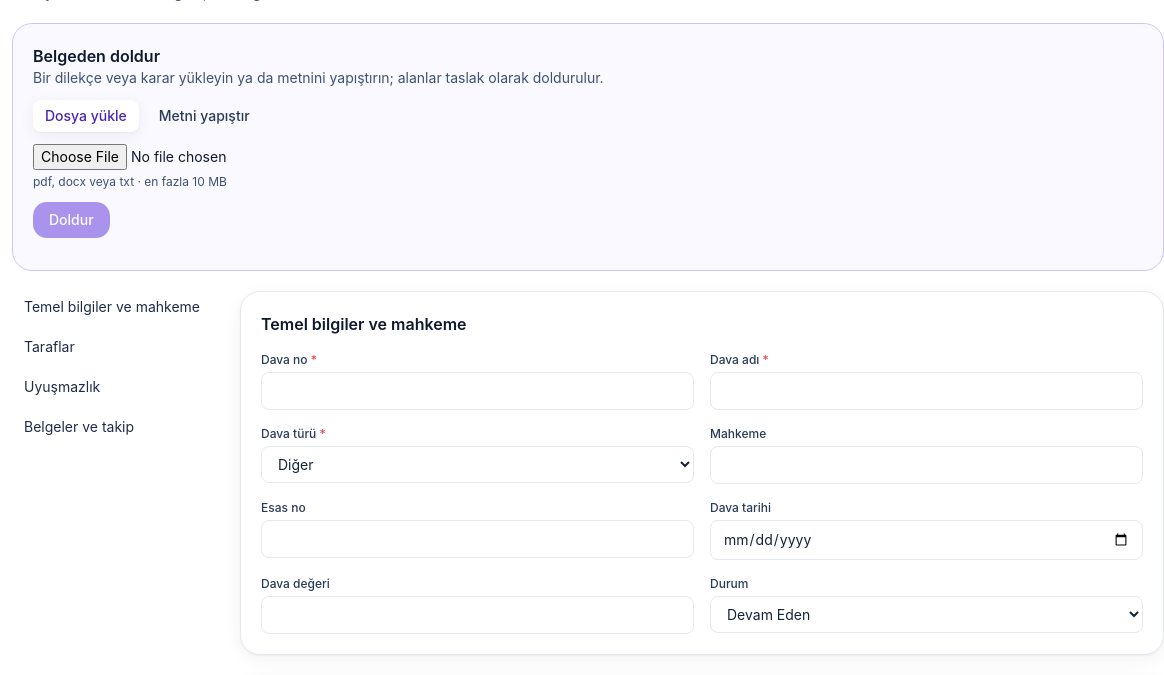
Test: NewCaseView › fills the sections from the draft, badges them and leaves the client unmarked
This screenshot has width=1164, height=675.
Click the tab "Metni yapıştır". click: click(204, 116)
box: [147,100,262,132]
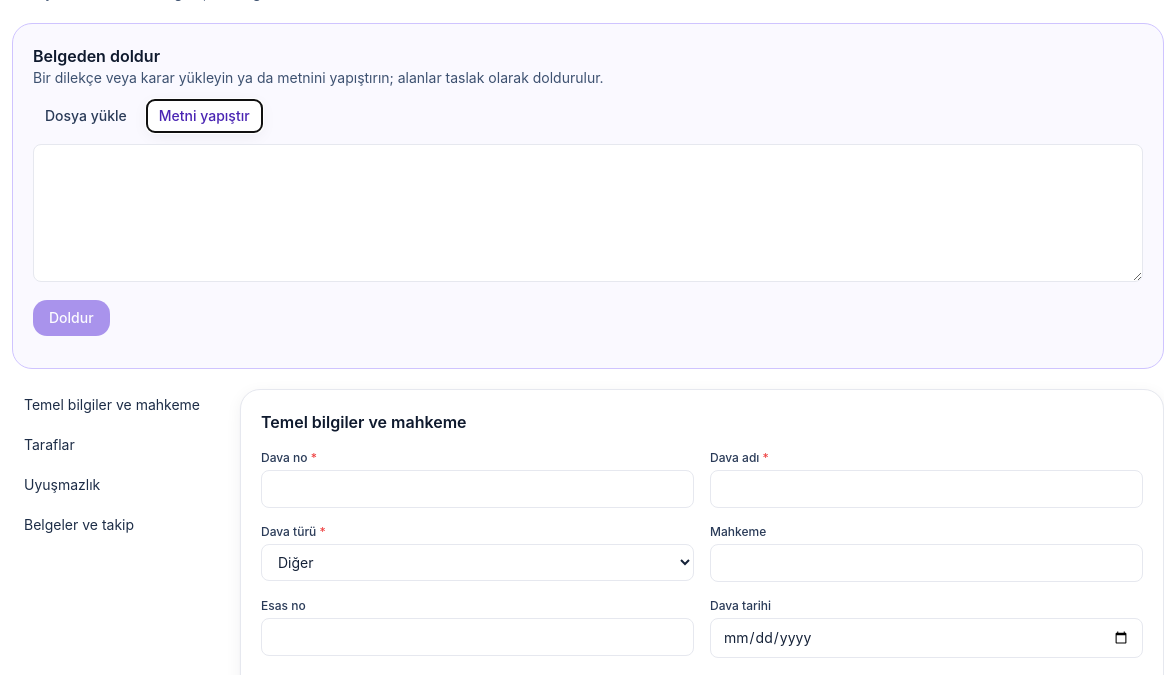
Type "dilekçe metni" into the text box named "Belge metni". click: (588, 213)
box: [33,144,1143,282]
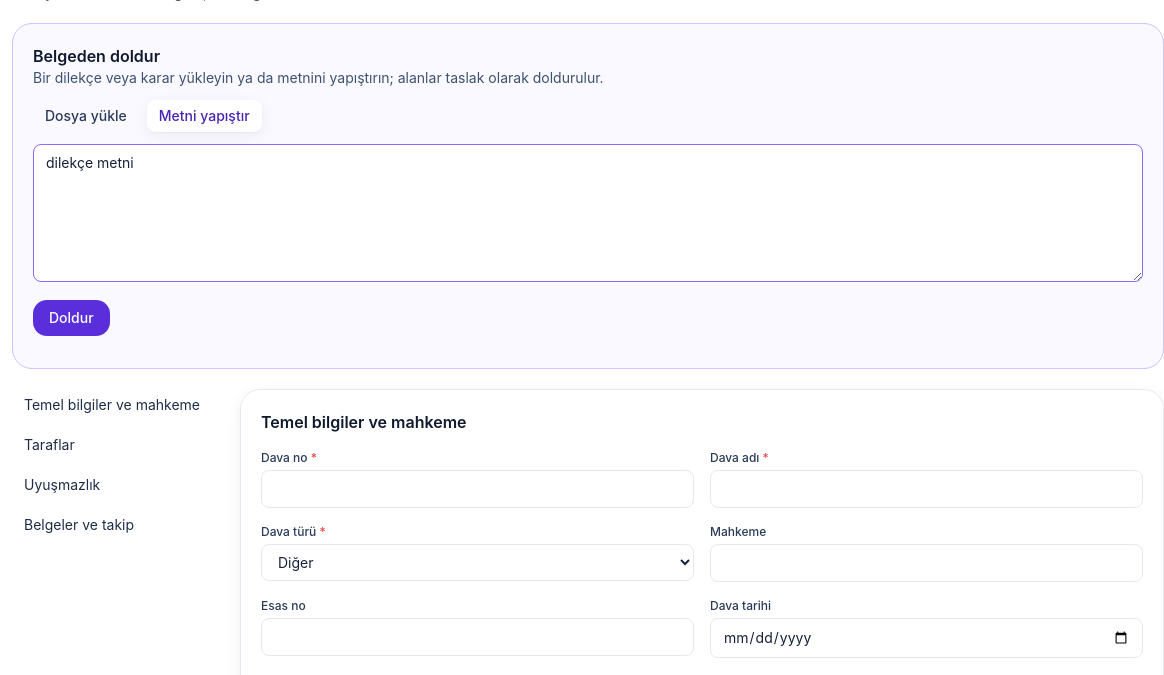
Click the button "Doldur". click: click(71, 318)
box: [33,300,110,336]
(page scrolled)
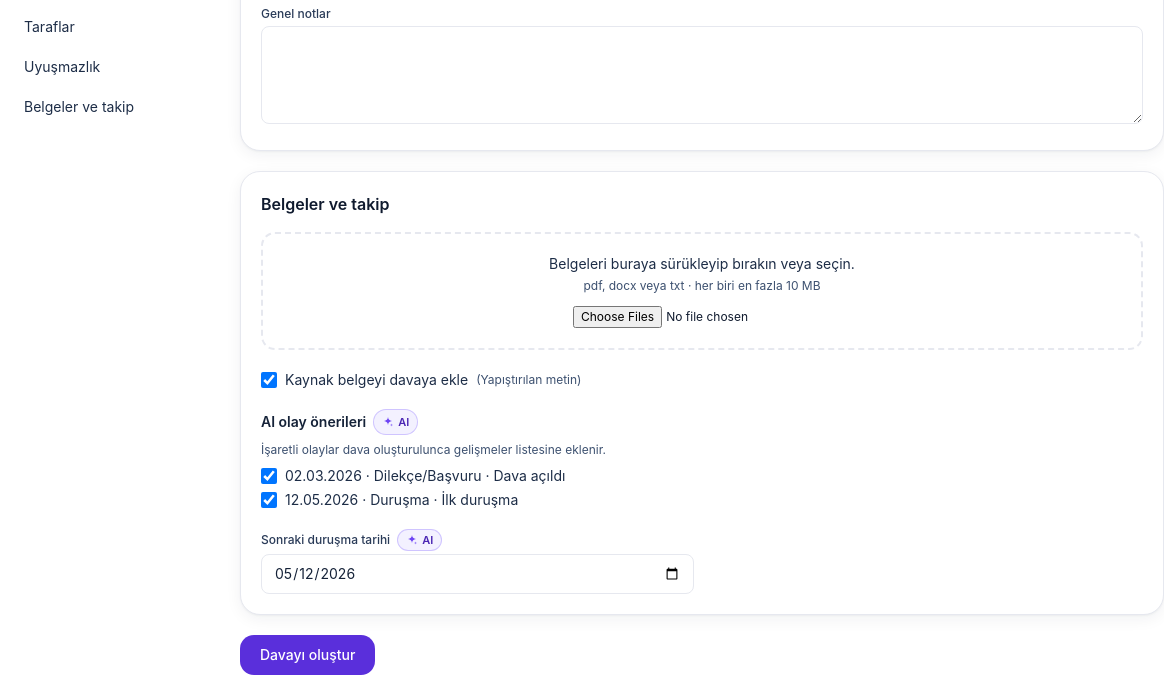
Check: the date field labelled "Sonraki duruşma tarihi" holds "2026-05-12", box [261,554,694,594]
Check: the checkbox labelled "Kaynak belgeyi davaya ekle" is checked, box [261,372,277,388]
Check: the text "(Yapıştırılan metin)" is shown, box [476,372,582,388]
